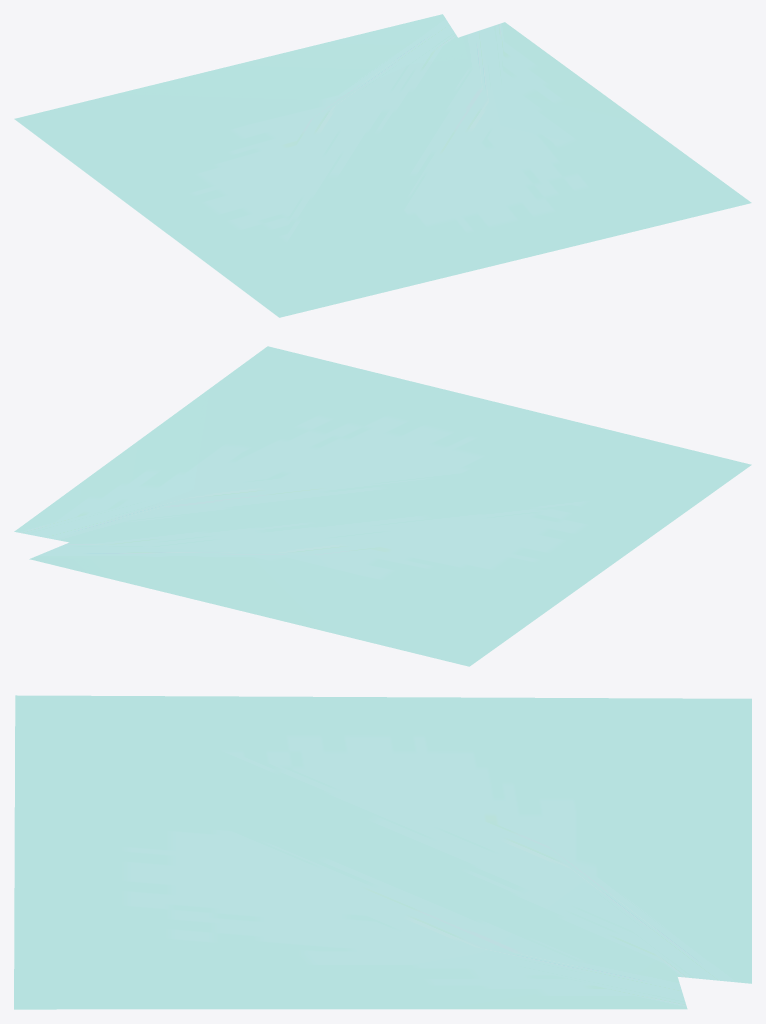
Rendered from wavewallconvex.fbx.
3 renders of one model, top to bottom at view 1: azimuth 30°, elevation 25°; view 2: azimuth 150°, elevation 25°; view 3: azimuth 270°, elevation 25°, orthographic. The views are drawn at different scales.
Parts seen in each view (by area): view 1: crypt_wave; view 2: crypt_wave; view 3: crypt_wave.
Boxes of the visible parts, x1,y1,x2,y2 form: crypt_wave: [14, 14, 751, 317]; crypt_wave: [14, 346, 751, 666]; crypt_wave: [14, 695, 751, 1009].
Bounding box in the file's own units: 1.51 × 0.00225 × 1.5.
